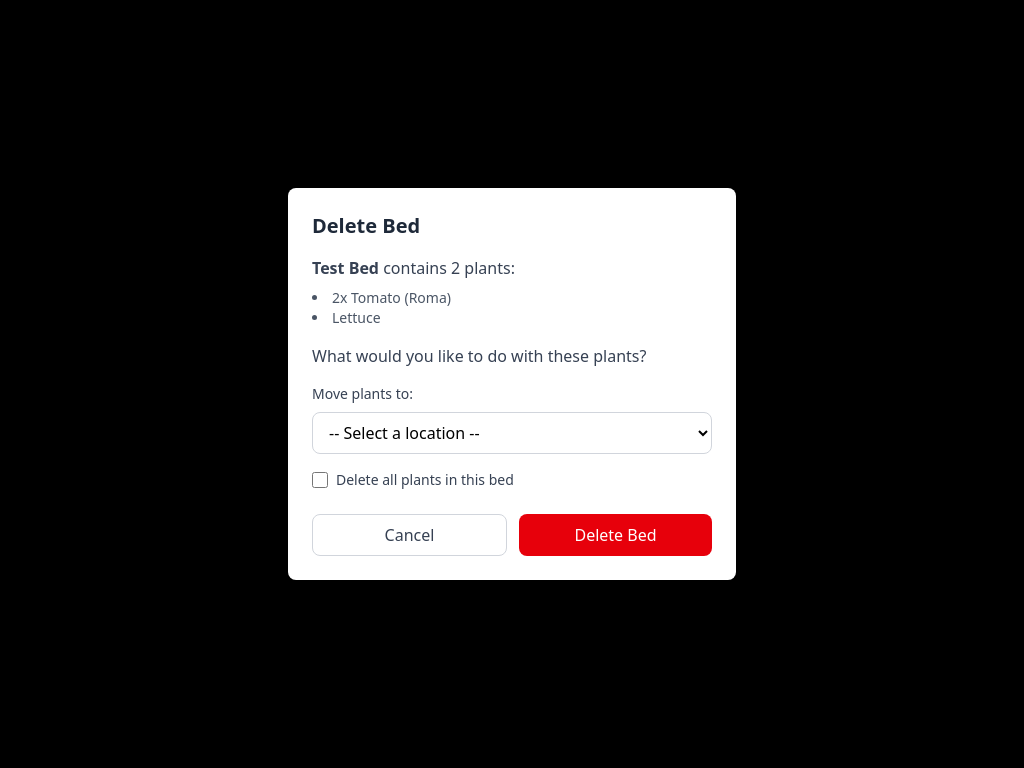
Scenario: BedDeleteDialog Component › Bed with Plants Deletion › should hide destination dropdown when delete all plants is checked
Expected: the dropdown labelled "Move plants to:" is shown, [312,412,712,454]
Click the checkbox labelled "Delete all plants in this bed": (320, 480) [312,472,328,488]
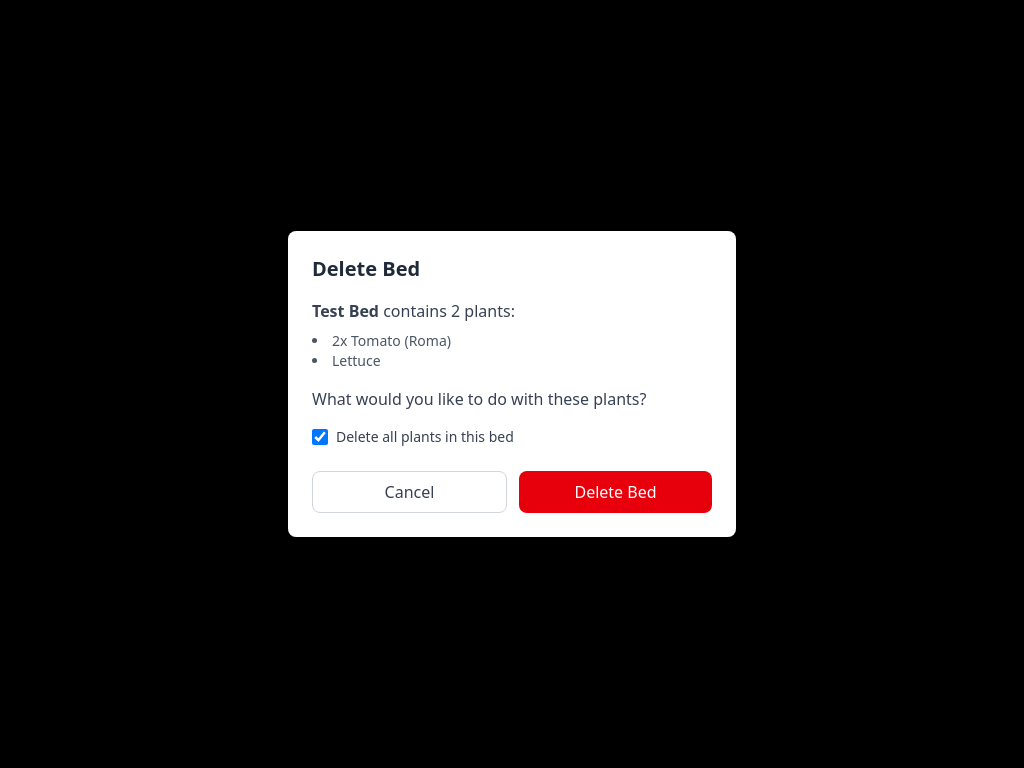
Now the label labelled "Move plants to:" is gone
